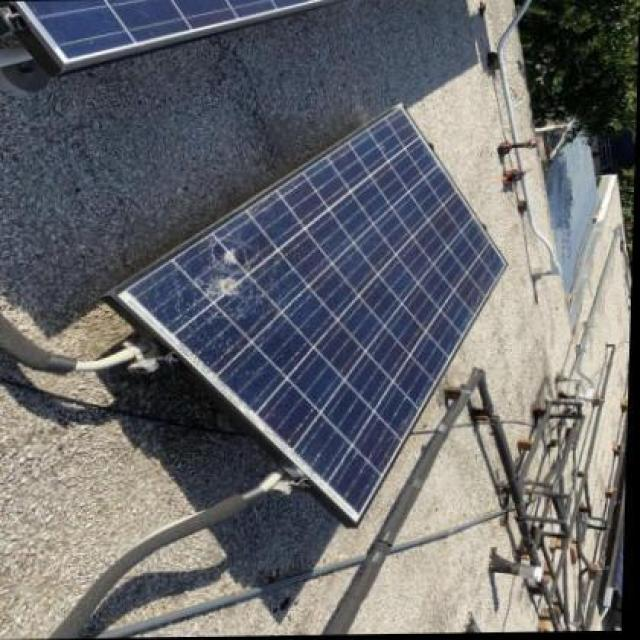cracked: (111, 102, 520, 530)
